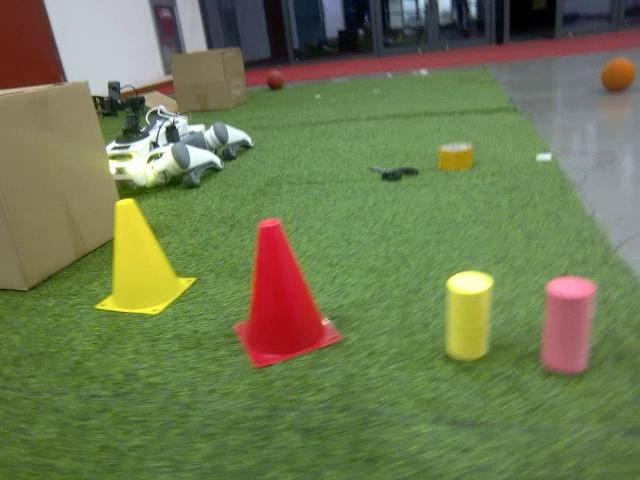orange_ball: (600, 57, 635, 93)
red_ball: (267, 70, 285, 91)
red_barrel: (232, 216, 346, 370)
red_cylinder: (540, 274, 597, 376)
yellow_barrel: (94, 196, 197, 317)
yellow_cylinder: (443, 266, 492, 364)
